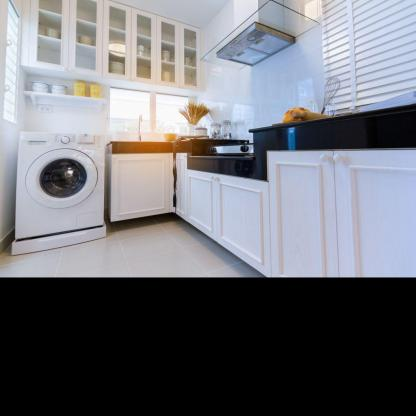Cabinet: (106, 149, 416, 276), (19, 0, 203, 93)
